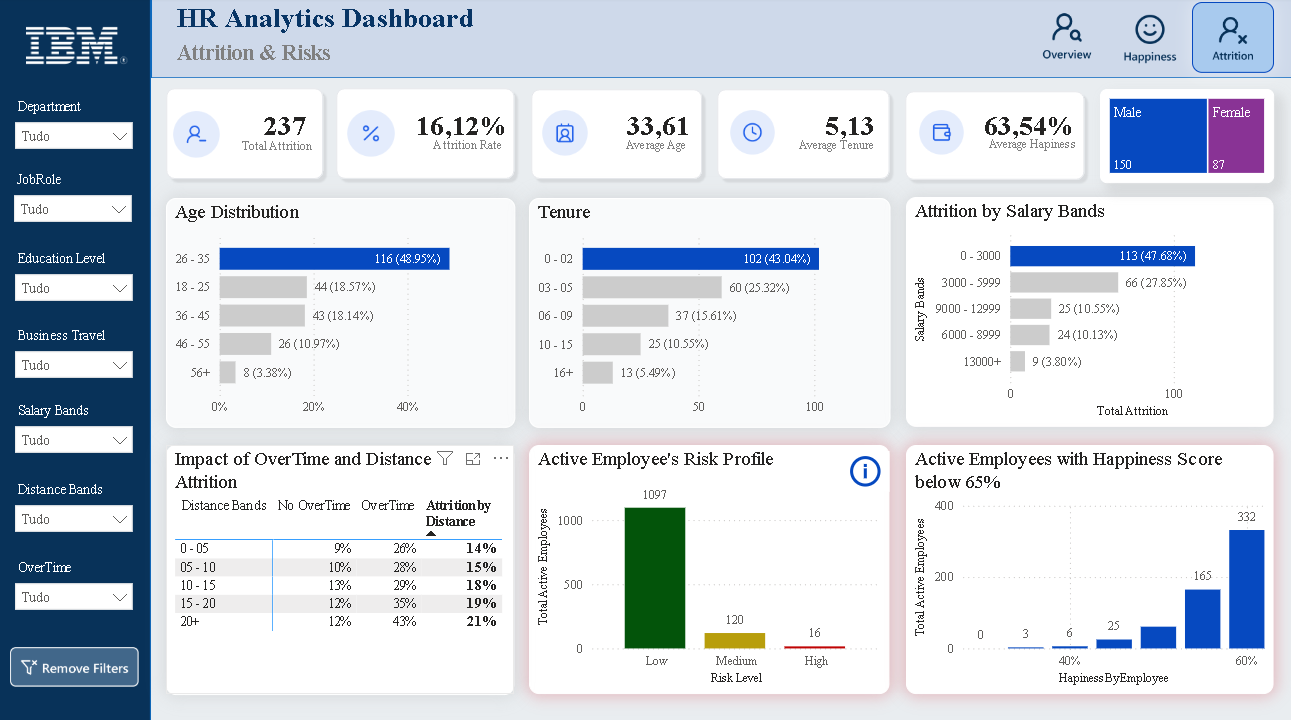

The dashboard page shown, as its layout file describes it:
{"tool":"powerbi","page":{"name":"Attrition & Risks","canvas":[1280,720],"ordinal":3},"visuals":[{"type":"textbox","box":[172.4,0,360.8,51.4],"z":0},{"type":"shape","box":[161,84,167.3,102],"z":0,"group":"g8"},{"type":"shape","box":[329.3,84.4,188.3,101.9],"z":0,"group":"g7"},{"type":"shape","box":[521,85,181,101],"z":0,"group":"g6"},{"type":"shape","box":[704.8,85.4,182.5,101],"z":0,"group":"g5"},{"type":"group","id":"g1","title":"Group 1","box":[225.8,94,100.8,88.8],"z":0,"group":"g3"},{"type":"cardVisual","fields":{"Data":["_Medidas.Total Attrition"]},"box":[252.7,94,71,58.6],"z":0,"group":"g1"},{"type":"group","id":"g2","title":"Group 1","box":[379.7,95.4,135.3,86.2],"z":0,"group":"g4"},{"type":"cardVisual","fields":{"Data":["_Medidas.Attrition Rate"]},"box":[390.7,95.4,124.4,56.7],"z":0,"group":"g2"},{"type":"shape","box":[891.1,86.4,189.3,99.8],"z":1000},{"type":"cardVisual","fields":{"Data":["_Medidas.Average Age Attrition"]},"box":[581.7,93.2,114.2,59.7],"z":1000,"group":"g6"},{"type":"group","id":"g3","title":"Group 2","box":[225.8,94,100.8,88.8],"z":1000,"group":"g8"},{"type":"cardVisual","fields":{"Data":["_Medidas.Average Tenure Attrition"]},"box":[788.2,94.2,90.5,58.6],"z":1000,"group":"g5"},{"type":"group","id":"g4","title":"Group 2","box":[379.7,95.4,135.3,86.2],"z":1000,"group":"g7"},{"type":"textbox","box":[225.8,134.4,100.8,48.4],"z":1000,"group":"g1"},{"type":"textbox","box":[379.7,134.4,124.8,47.2],"z":1000,"group":"g2"},{"type":"shape","box":[152.3,0,1127.7,80.3],"z":2000},{"type":"image","box":[329.3,107,81.4,56.5],"z":2000,"group":"g7"},{"type":"image","box":[161.7,107.7,71,56],"z":2000,"group":"g8"},{"type":"textbox","box":[608.5,133.4,83.3,46.3],"z":2000,"group":"g6"},{"type":"textbox","box":[746.3,133.9,124.4,46.2],"z":2000,"group":"g5"},{"type":"cardVisual","fields":{"Data":["_Medidas.Happiness Score Attrition"]},"box":[957.9,94.7,122.4,55.6],"z":3000},{"type":"image","box":[523.4,106.8,75.4,55.3],"z":3000,"group":"g6"},{"type":"image","box":[707,107.2,78.5,54.4],"z":3000,"group":"g5"},{"type":"clusteredBarChart","title":"Age Distribution","fields":{"Category":["Fato.Intervalo Idade"],"Y":["_Medidas.% Attrition by AgeBand"]},"box":[167,199,345,227],"z":4000},{"type":"textbox","box":[931.2,132.7,138.9,46.3],"z":5000},{"type":"shape","box":[0,0,152,720],"z":6000},{"type":"image","box":[894.1,107,78.2,53.5],"z":7000},{"type":"group","id":"g5","title":"Group 6","box":[704.8,85.4,182.5,101],"z":8000},{"type":"group","id":"g6","title":"Group 7","box":[521,85,181,101],"z":9000},{"type":"image","box":[23.1,8,111.7,79.8],"z":10000},{"type":"slicer","fields":{"Values":["Fato.OverTime"]},"box":[8,551,135.7,77.8],"z":11000},{"type":"textbox","box":[172.4,38.8,230.7,37.7],"z":12000},{"type":"slicer","fields":{"Values":["D_BusinessTravel.BusinessTravel"]},"box":[7.9,321.6,135.7,74],"z":13000},{"type":"slicer","fields":{"Values":["Fato.Salary Bands"]},"box":[7.9,395.6,135.7,78.8],"z":14000},{"type":"slicer","fields":{"Values":["Fato.Distancy Bands"]},"box":[7.9,474.4,135.7,76.9],"z":15000},{"type":"slicer","fields":{"Values":["D_Education.EducationLevel"]},"box":[8,246,135.7,79.7],"z":16000},{"type":"image","box":[8,629,136.6,64.5],"z":17000},{"type":"image","box":[1014,5.1,84.4,64.5],"z":18000},{"type":"image","box":[1096.8,8.2,82.3,63.8],"z":19000},{"type":"cardVisual","fields":{"Data":["_Medidas.Attrition_Gender_Gap %"]},"box":[1151.4,138.5,74.2,25.7],"z":20000},{"type":"group","id":"g7","title":"Group 4","box":[329.3,84.4,188.3,101.9],"z":21000},{"type":"group","id":"g8","title":"Group 8","box":[161,84,167.3,102],"z":22000},{"type":"clusteredBarChart","title":"Tenure","fields":{"Category":["Fato.Tenure Bands"],"Y":["_Medidas.Total Attrition"]},"box":[525.8,198.6,357,227.4],"z":23000},{"type":"clusteredBarChart","title":"Attrition by Salary Bands","fields":{"Category":["Fato.Salary Bands"],"Y":["_Medidas.Total Attrition"]},"box":[898.3,197.6,363.2,227.4],"z":24000},{"type":"treemap","title":"by Gender","fields":{"Group":["D_Gender.Gender"],"Values":["_Medidas.Total Attrition"]},"box":[1089.6,90.5,171.8,92.6],"z":25000},{"type":"columnChart","title":"Active Employee''s Risk Profile","fields":{"Category":["Fato.Risk Level"],"Y":["_Medidas.Total Active Employees"]},"box":[525.8,442.4,356,245.9],"z":25500},{"type":"pivotTable","title":"Impact of OverTime and Distance on Attrition","fields":{"Columns":["Fato.OverTime_Label"],"Rows":["Fato.Distance Bands"],"Values":["_Medidas.Attrition Rate"]},"box":[166.7,442,344.4,246.8],"z":26000},{"type":"clusteredColumnChart","title":"Active Employees with Happiness Score below 65%","fields":{"Category":["F_Survey.HapinessByEmployee"],"Y":["_Medidas.Total Active Employees"]},"box":[898.3,442.4,363.2,245.9],"z":28000},{"type":"slicer","fields":{"Values":["D_Department.Department"]},"box":[8,96,135.7,77.8],"z":29000},{"type":"slicer","fields":{"Values":["D_Job.JobRole"]},"box":[7,168,136,78],"z":30000},{"type":"image","box":[1180.2,5.1,81.3,70],"z":31000},{"type":"actionButton","box":[837.6,448.6,44.2,40.1],"z":33500}]}

Visuals, with their boxes on the page's 1280x720 design canvas (x1, y1, x2, y2). These are canvas units, not pixel positions in the 1291x720 screenshot, which may show the page scaled, cropped or inside an application window:
textbox: (172,0,533,51)
shape: (161,84,328,186)
shape: (329,84,518,186)
shape: (521,85,702,186)
shape: (705,85,887,186)
"Group 1" group: (226,94,327,183)
cardVisual - _Medidas.Total Attrition: (253,94,324,153)
"Group 1" group: (380,95,515,182)
cardVisual - _Medidas.Attrition Rate: (391,95,515,152)
shape: (891,86,1080,186)
cardVisual - _Medidas.Average Age Attrition: (582,93,696,153)
"Group 2" group: (226,94,327,183)
cardVisual - _Medidas.Average Tenure Attrition: (788,94,879,153)
"Group 2" group: (380,95,515,182)
textbox: (226,134,327,183)
textbox: (380,134,504,182)
shape: (152,0,1280,80)
image: (329,107,411,164)
image: (162,108,233,164)
textbox: (608,133,692,180)
textbox: (746,134,871,180)
cardVisual - _Medidas.Happiness Score Attrition: (958,95,1080,150)
image: (523,107,599,162)
image: (707,107,786,162)
"Age Distribution" clusteredBarChart: (167,199,512,426)
textbox: (931,133,1070,179)
shape: (0,0,152,720)
image: (894,107,972,160)
"Group 6" group: (705,85,887,186)
"Group 7" group: (521,85,702,186)
image: (23,8,135,88)
slicer - Fato.OverTime: (8,551,144,629)
textbox: (172,39,403,76)
slicer - D_BusinessTravel.BusinessTravel: (8,322,144,396)
slicer - Fato.Salary Bands: (8,396,144,474)
slicer - Fato.Distancy Bands: (8,474,144,551)
slicer - D_Education.EducationLevel: (8,246,144,326)
image: (8,629,145,694)
image: (1014,5,1098,70)
image: (1097,8,1179,72)
cardVisual - _Medidas.Attrition_Gender_Gap %: (1151,138,1226,164)
"Group 4" group: (329,84,518,186)
"Group 8" group: (161,84,328,186)
"Tenure" clusteredBarChart: (526,199,883,426)
"Attrition by Salary Bands" clusteredBarChart: (898,198,1262,425)
"by Gender" treemap: (1090,90,1261,183)
"Active Employee''s Risk Profile" columnChart: (526,442,882,688)
"Impact of OverTime and Distance on Attrition" pivotTable: (167,442,511,689)
"Active Employees with Happiness Score below 65%" clusteredColumnChart: (898,442,1262,688)
slicer - D_Department.Department: (8,96,144,174)
slicer - D_Job.JobRole: (7,168,143,246)
image: (1180,5,1262,75)
actionButton: (838,449,882,489)
